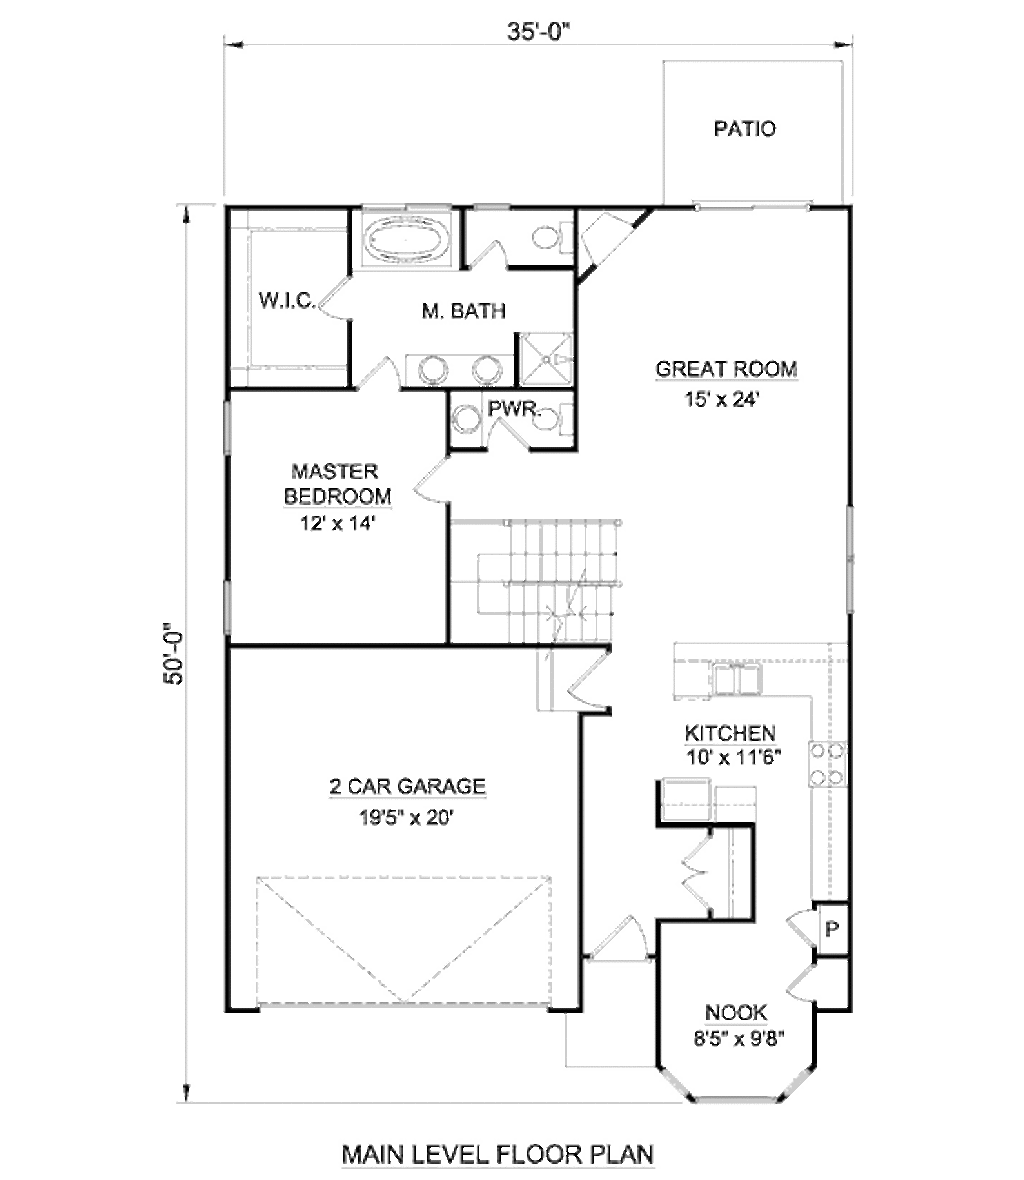door: (567, 642, 647, 731), (680, 833, 735, 920), (584, 909, 649, 962), (411, 445, 464, 505), (315, 273, 366, 327), (484, 409, 535, 465), (775, 953, 824, 1009), (780, 894, 822, 953), (351, 349, 404, 393), (455, 234, 509, 274)
large_sink: (526, 389, 575, 442), (529, 218, 577, 263)
small_sink: (406, 353, 518, 393), (447, 385, 484, 442)
stairs: (444, 520, 620, 642)
tub: (340, 203, 464, 273)
twin_sink: (693, 649, 789, 711)
window: (646, 1063, 824, 1105), (840, 507, 864, 623), (209, 583, 247, 636), (213, 400, 240, 454), (680, 200, 807, 211)
